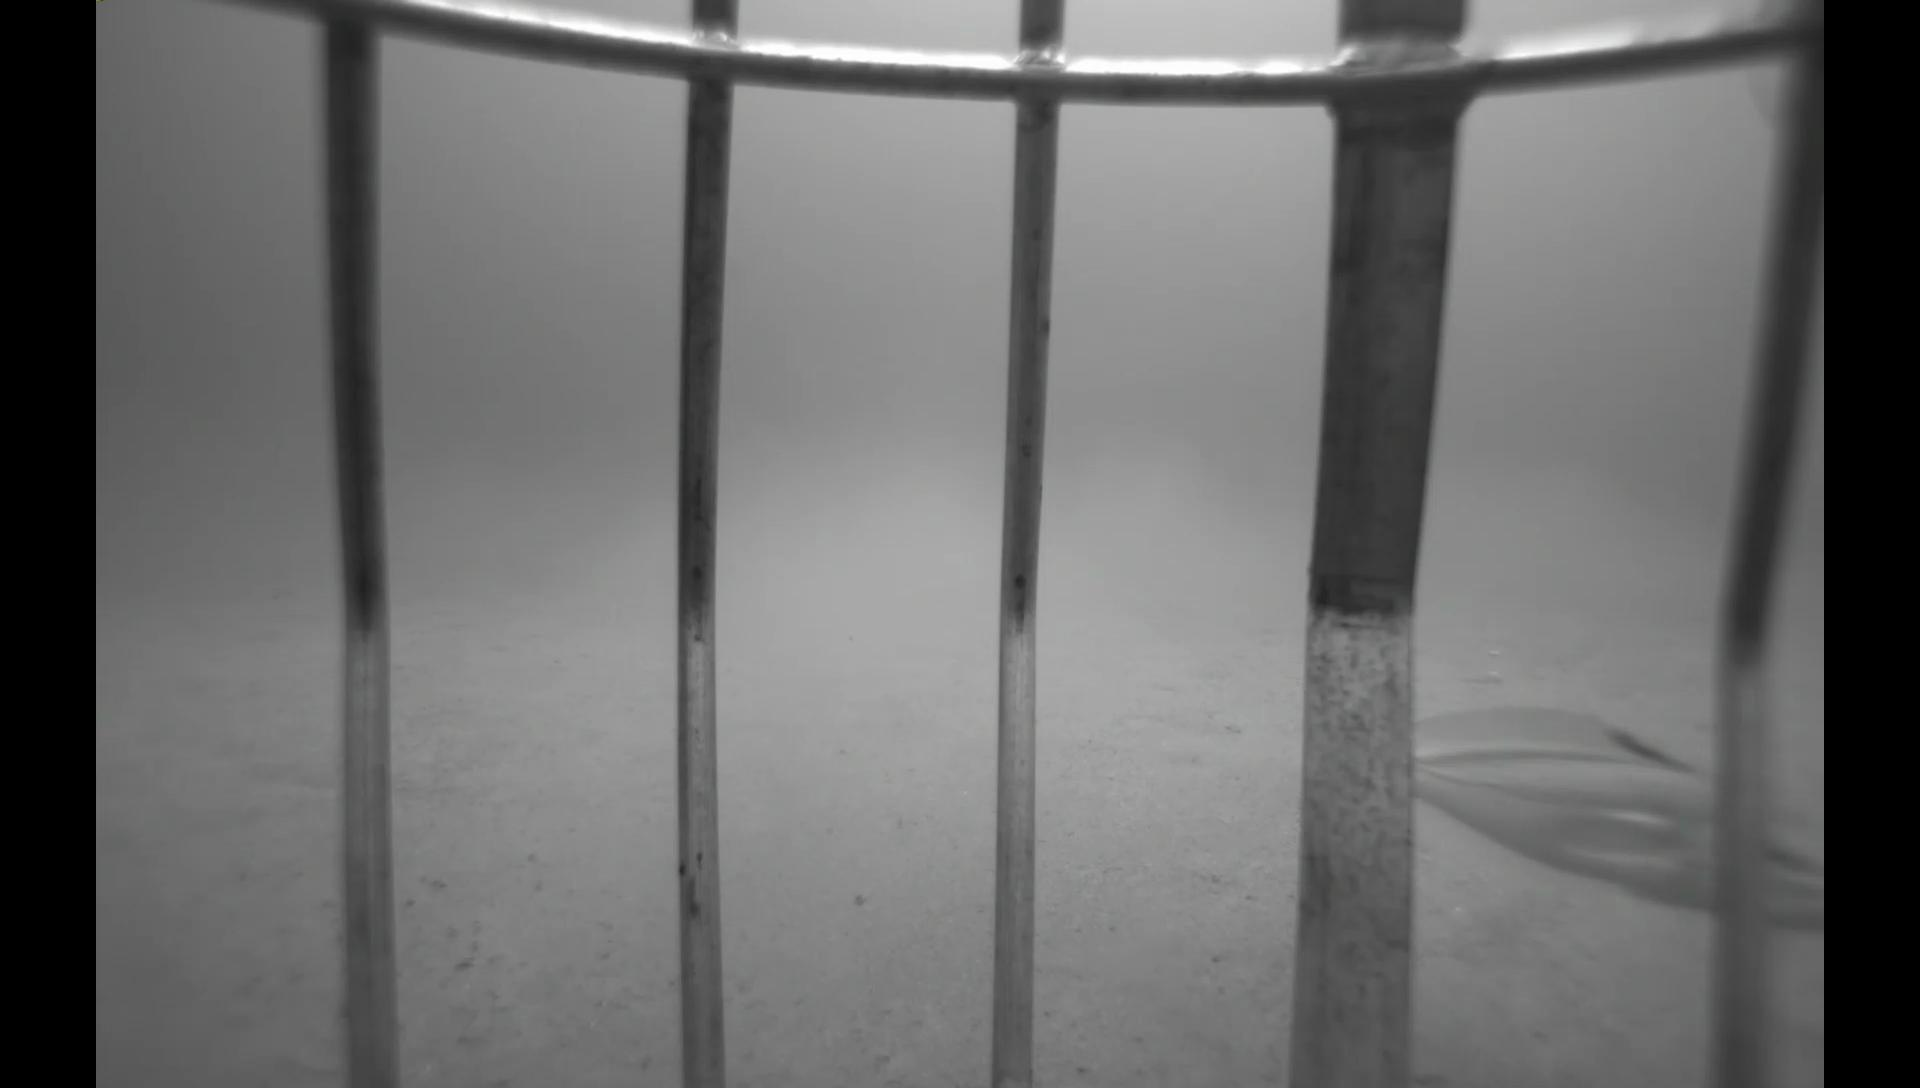CAULOLATILUSCYANOPS-170070101: (1410, 706, 1830, 944)
SYACIUM-183011000: (1139, 698, 1246, 740)
